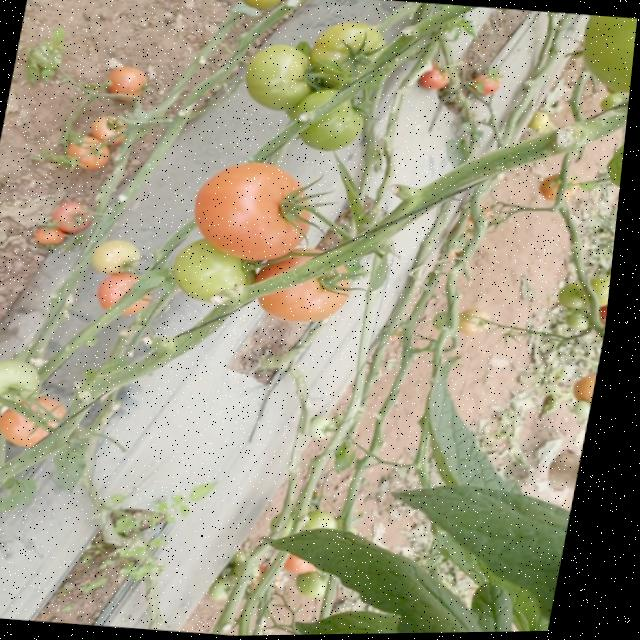Ripe Tomato: (185, 159, 336, 263), (258, 251, 367, 329), (4, 396, 88, 454), (101, 273, 167, 317), (99, 64, 157, 100), (67, 131, 118, 171), (537, 172, 588, 205), (92, 113, 139, 147), (55, 202, 100, 229), (415, 65, 459, 92), (41, 224, 82, 249), (291, 552, 331, 576), (581, 370, 605, 405), (477, 75, 509, 95), (597, 303, 615, 322)
Unripe Tomato: (164, 226, 273, 309), (302, 15, 399, 92), (236, 39, 327, 113), (292, 86, 376, 164), (571, 15, 638, 98), (0, 361, 51, 409), (101, 238, 154, 276), (460, 305, 507, 340), (309, 571, 350, 607), (313, 409, 351, 442), (307, 511, 349, 538), (564, 284, 596, 314), (564, 308, 600, 334), (588, 278, 617, 310), (597, 89, 623, 116), (223, 580, 252, 600), (237, 0, 289, 11), (528, 108, 550, 130)
